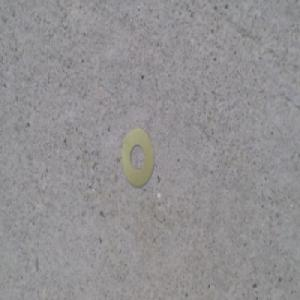Washer: (122, 126, 156, 188)
